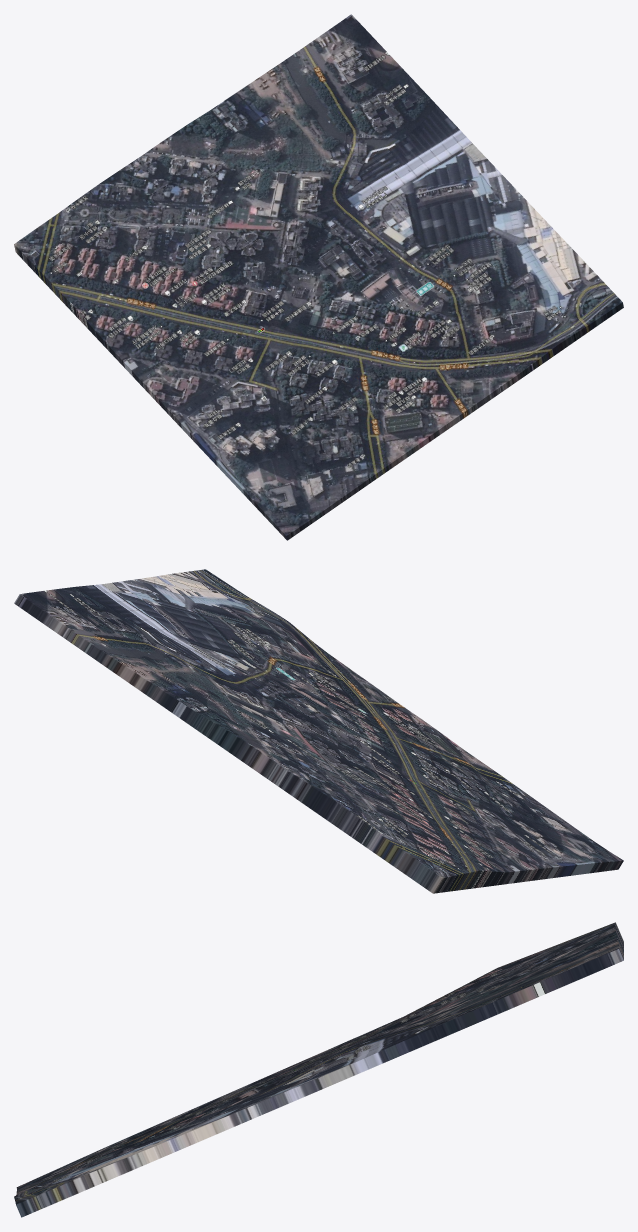
3 views of the same model, one above another, from view 1: azimuth 30°, elevation 25°; view 2: azimuth 150°, elevation 25°; view 3: azimuth 270°, elevation 25° (orthographic). The views are drawn at different scales.
Visible parts, largest first — view 1: 0_12_1; view 2: 0_12_1; view 3: 0_12_1.
Boxes of the visible parts, x1,y1,x2,y2 form: 0_12_1: [14, 14, 623, 540]; 0_12_1: [14, 569, 623, 893]; 0_12_1: [14, 922, 623, 1217].
Bounding box in the file's own units: 599 × 437 × 549.
Materials: 1 (1 with a texture image).
